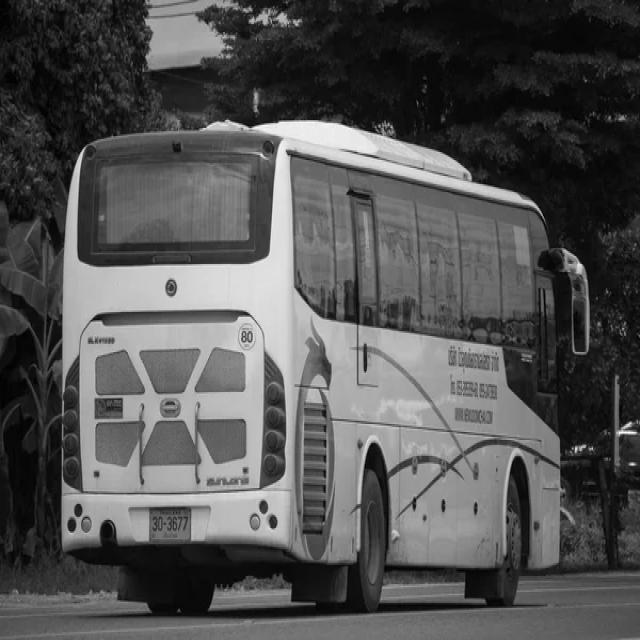Bus: (60, 120, 591, 616)
